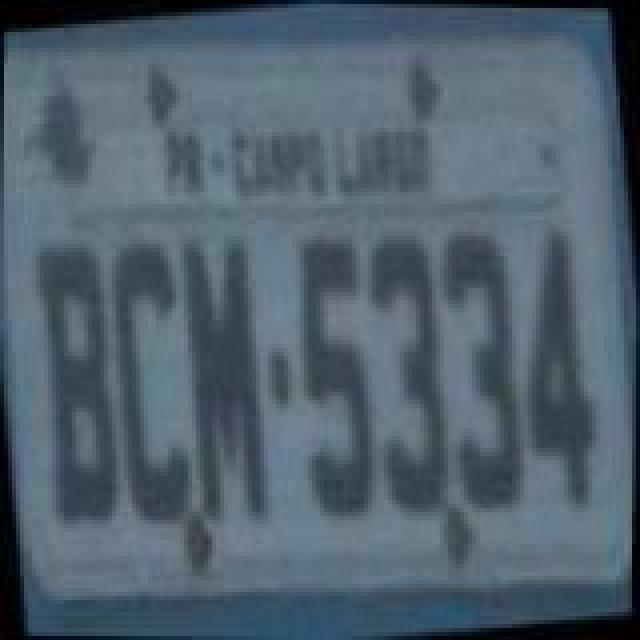3: (432, 218, 540, 518), (352, 224, 460, 520)
4: (504, 220, 612, 516)
5: (276, 228, 392, 528)
B: (20, 236, 132, 532)
C: (94, 232, 202, 532)
M: (170, 232, 278, 528)
